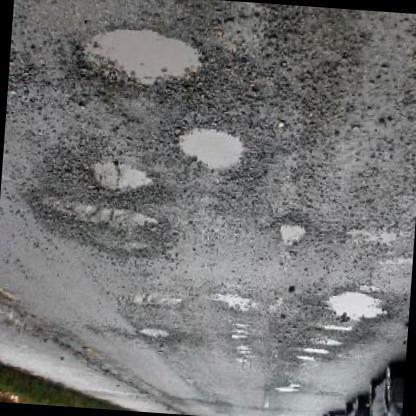pothole: (32, 186, 169, 257), (78, 22, 210, 90), (172, 121, 252, 176), (87, 156, 165, 196), (328, 284, 394, 328), (292, 335, 352, 366), (276, 214, 312, 248), (212, 290, 260, 314), (136, 323, 184, 345), (130, 289, 182, 307)
